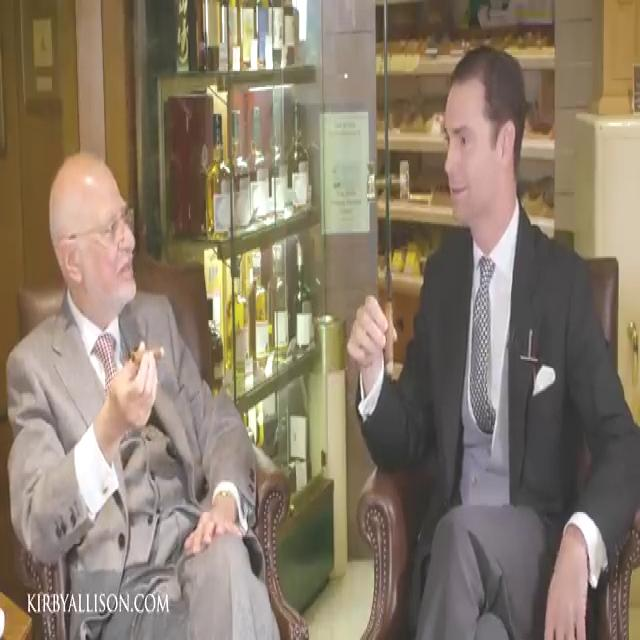Smooking: (128, 334, 172, 375), (385, 295, 400, 386)
